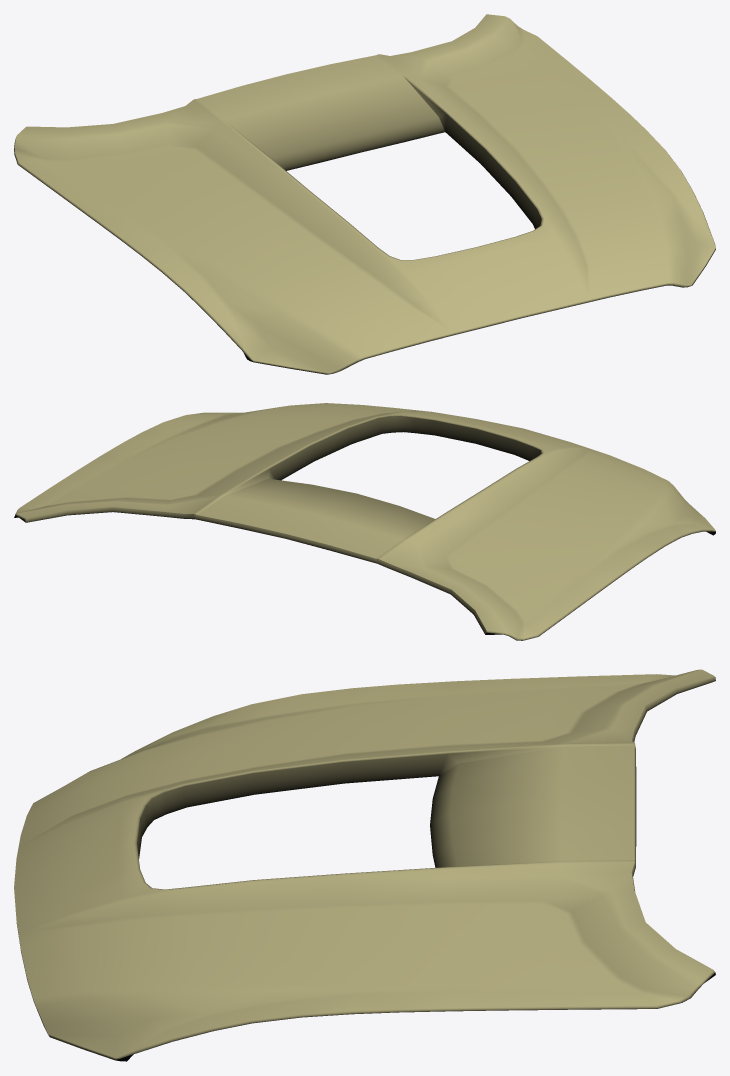
Rendered from Mustang16_Hood_GT_Duco.fbx.
3 views of the same model, one above another, from view 1: azimuth 30°, elevation 25°; view 2: azimuth 150°, elevation 25°; view 3: azimuth 270°, elevation 25° (orthographic). The views are drawn at different scales.
Visible parts, largest first — view 1: Mustang16_Hood_GT_Duco; view 2: Mustang16_Hood_GT_Duco; view 3: Mustang16_Hood_GT_Duco.
Part boxes in pixels (bbox=[...]): Mustang16_Hood_GT_Duco: bbox=[14, 14, 715, 374]; Mustang16_Hood_GT_Duco: bbox=[14, 403, 715, 640]; Mustang16_Hood_GT_Duco: bbox=[14, 669, 715, 1061].
Bounding box in the file's own units: 168 × 28.46 × 149.
